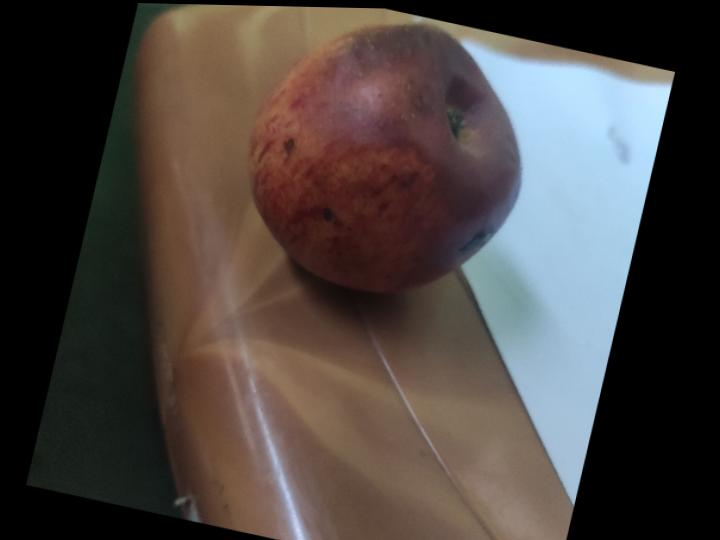apple: (250, 22, 521, 291)
rot_mold_decay: (321, 23, 520, 230)
